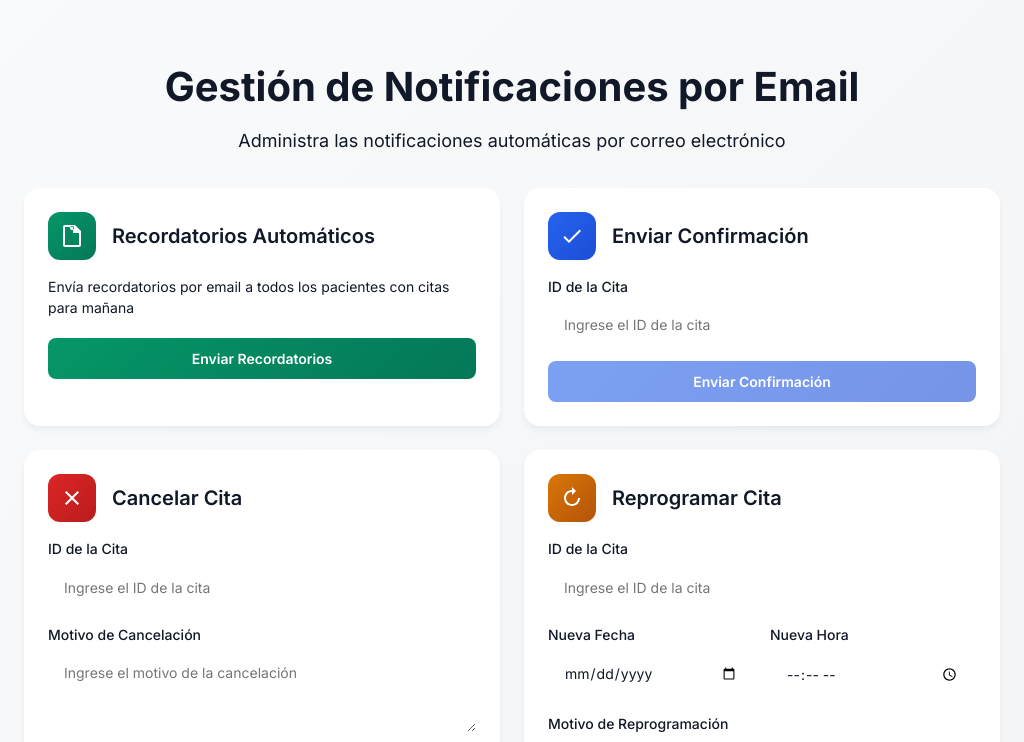
Test: GestionEmails › envía recordatorios y muestra resultado de éxito
The width and height of the screenshot is (1024, 742).
Click the button "Enviar Recordatorios": (262, 358) [48,338,476,379]
(page scrolled)
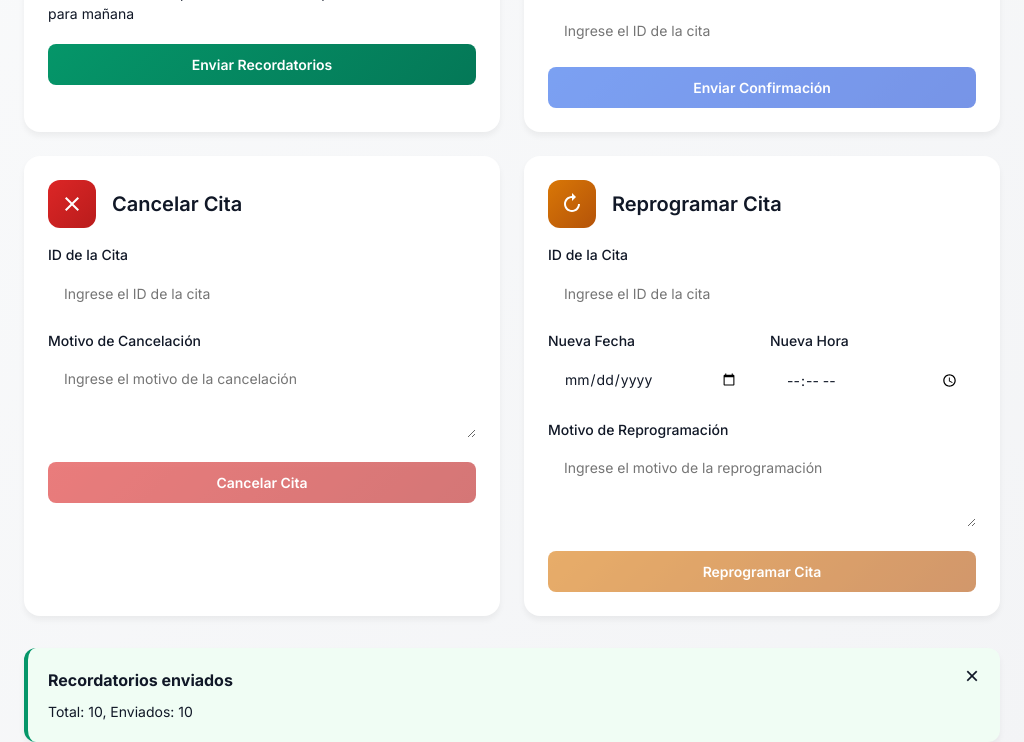
Expected: the text "Recordatorios enviados" is shown, [48,670,233,690]
Expected: the text "Total: 10, Enviados: 10" is shown, [48,703,193,720]
